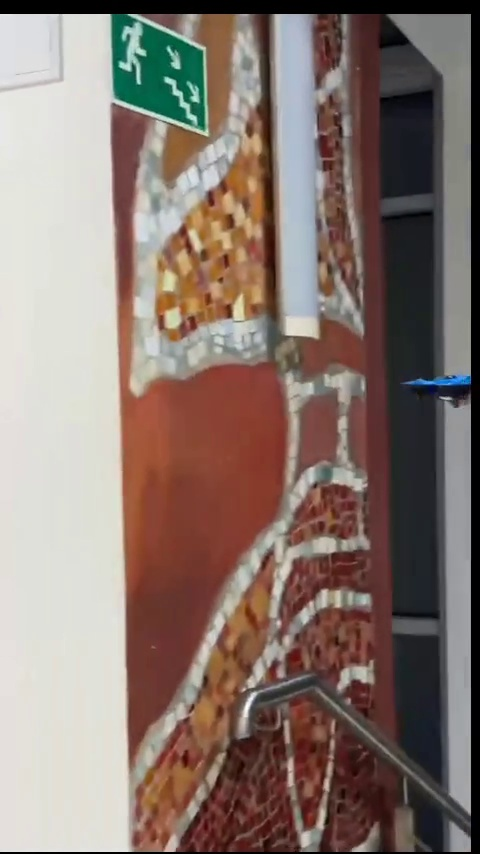drone: (409, 373, 478, 405)
